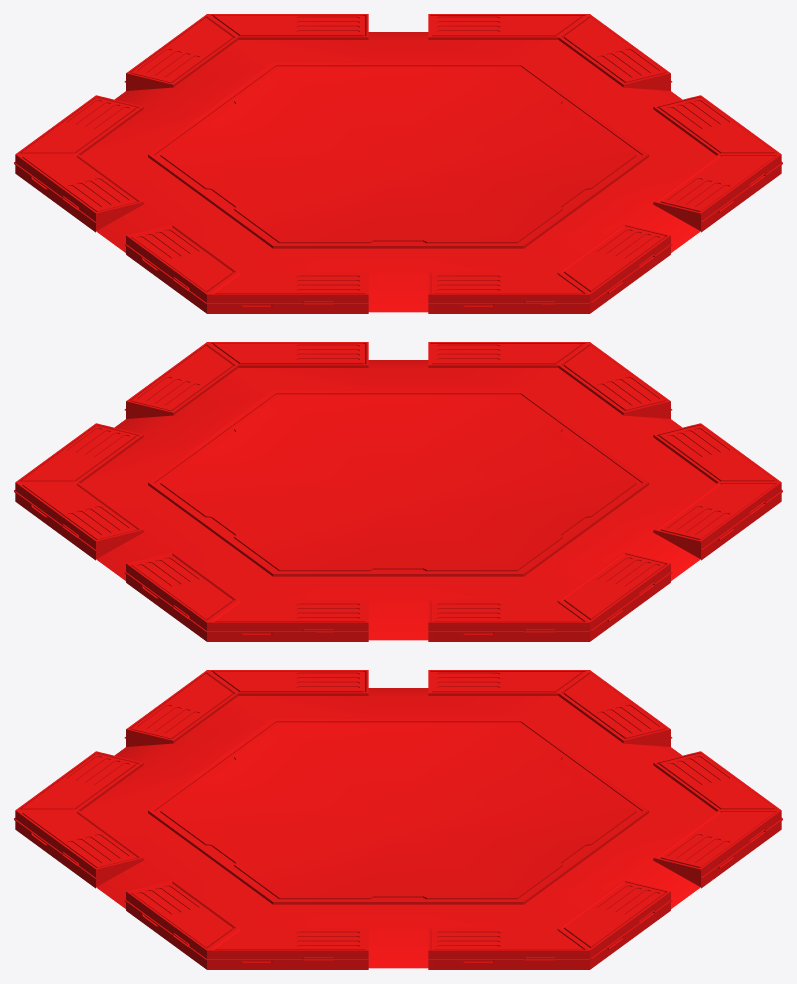
The model's file is entity30044.gltf.
3 renders of one model, top to bottom at view 1: azimuth 30°, elevation 25°; view 2: azimuth 150°, elevation 25°; view 3: azimuth 270°, elevation 25°, orthographic.
Parts seen in each view (by area): view 1: node_Platform_collider; view 2: node_Platform_collider; view 3: node_Platform_collider.
Part boxes in pixels (box(x1,y1,x2,y2)): node_Platform_collider: box(14, 14, 782, 313); node_Platform_collider: box(14, 342, 782, 641); node_Platform_collider: box(14, 670, 782, 969).
Bounding box in the file's own units: 59.58 × 1.89 × 68.73.
